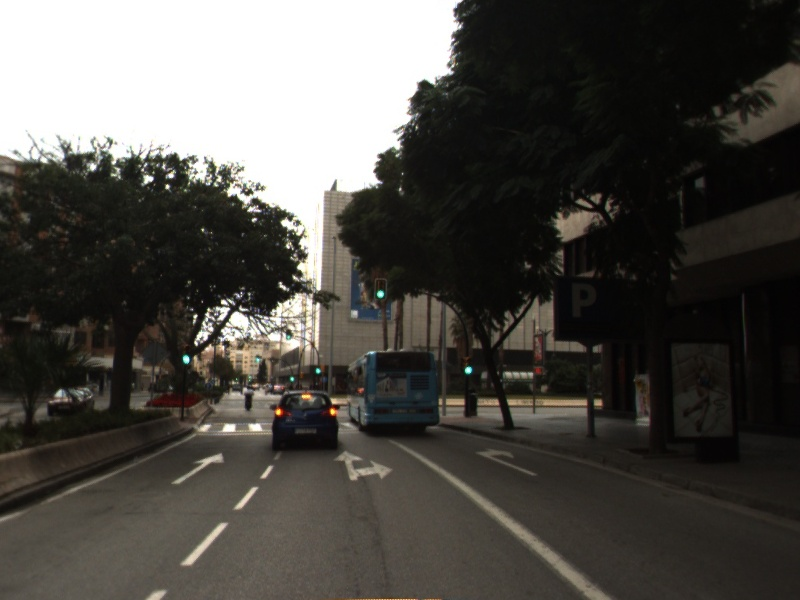RIGHT: (473, 445, 541, 478)
STRAIGHT: (169, 450, 227, 486)
STRAIGHT_RIGHT: (331, 448, 395, 483)
